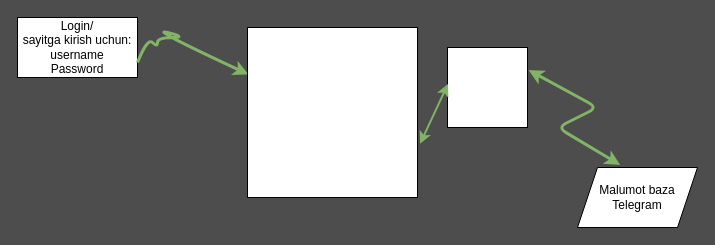
Some shapes in this 715 by 245 pixel diagram are drawn without their labels. The shapes that lost their labels are listed below. From the top down, each one's centre as x and y in pixels, then its label:
At point 487,87: "savol: 1-Bizni qayedan eshitdin 2-Xizmatimizni baxolang".
At point 332,112: "Form: 1-ism so'raladi 2-Familiya 3-Yosh 4-qayerdan kelganligi 5-Telefon raqam".
